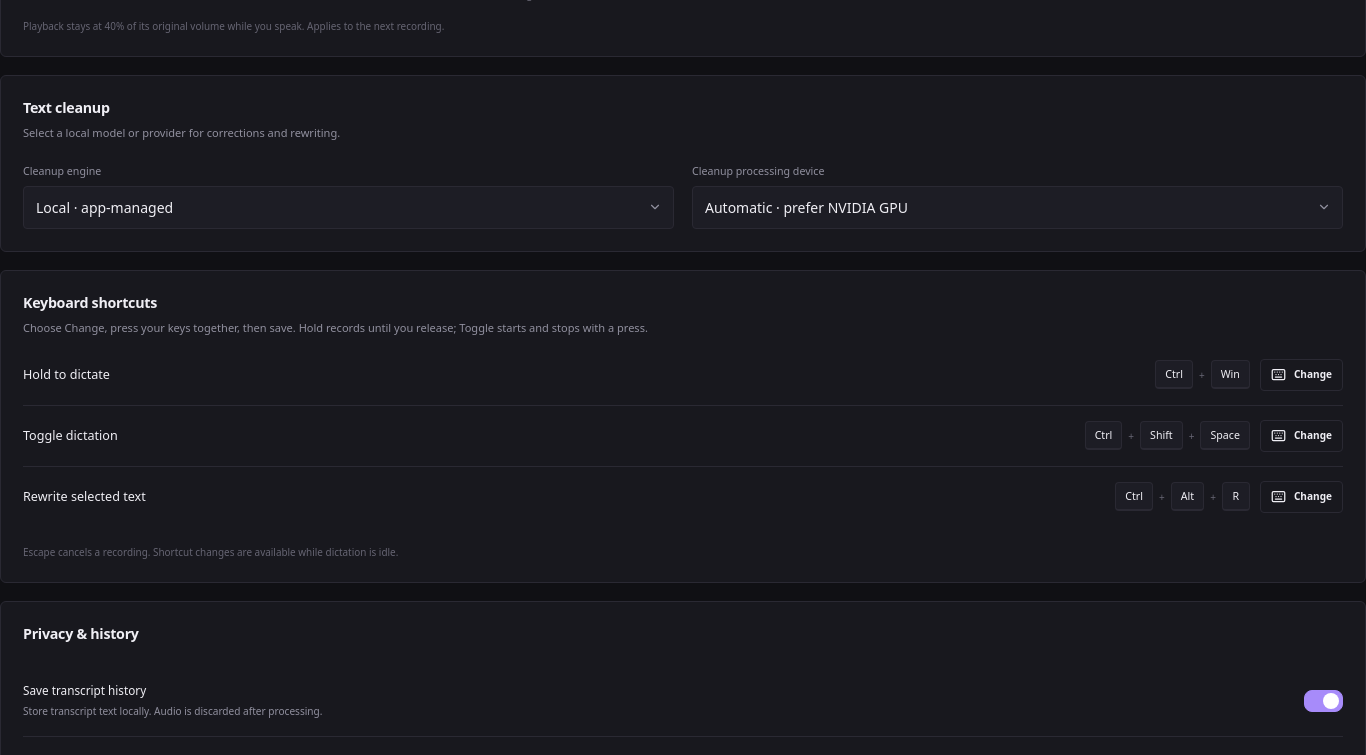
Test: Persisted settings › captures a pressed shortcut without saving until confirmed, preserving the latest sibling binding
(page scrolled)
Click the button with aria-label "Change hold to dictate". click: click(1301, 375)
box: [1260, 359, 1343, 391]
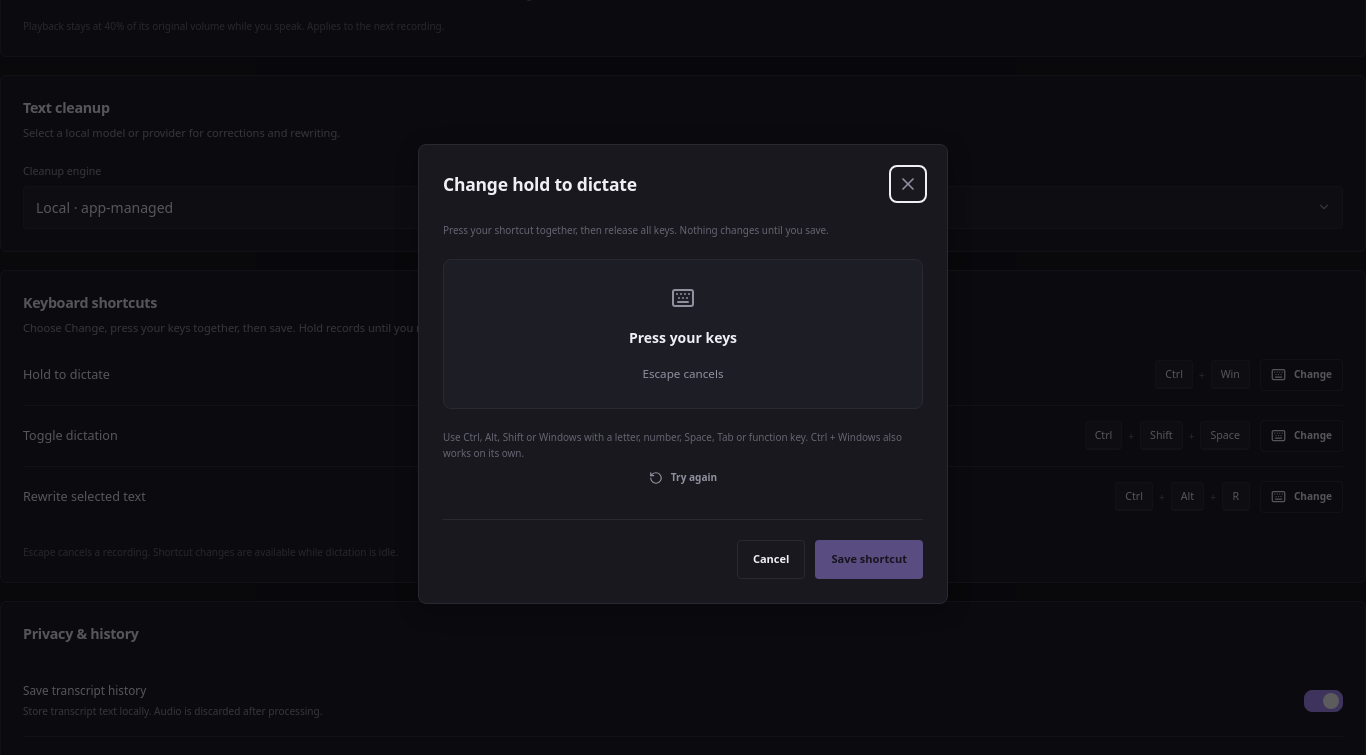
Press Control
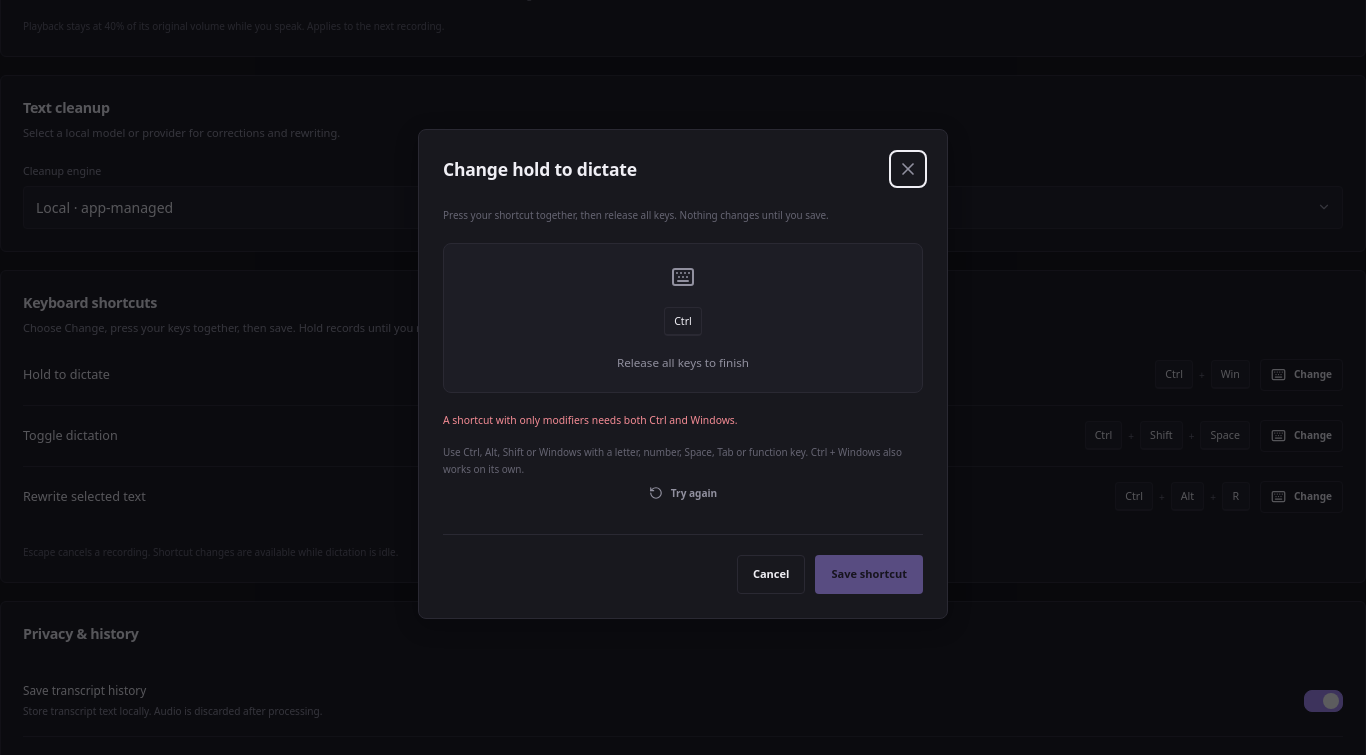
Press h
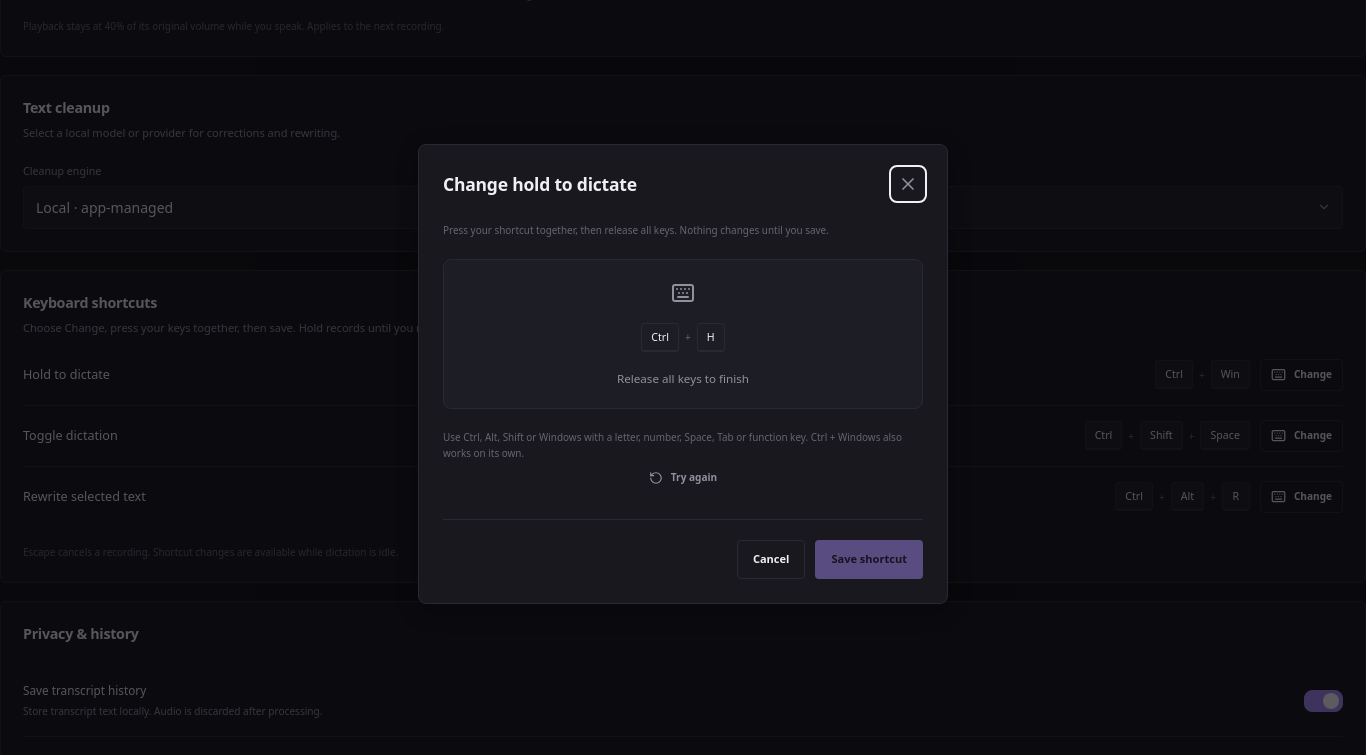
Expected: the button "Save shortcut" is disabled, [815, 540, 923, 579]
Press h
Press Control
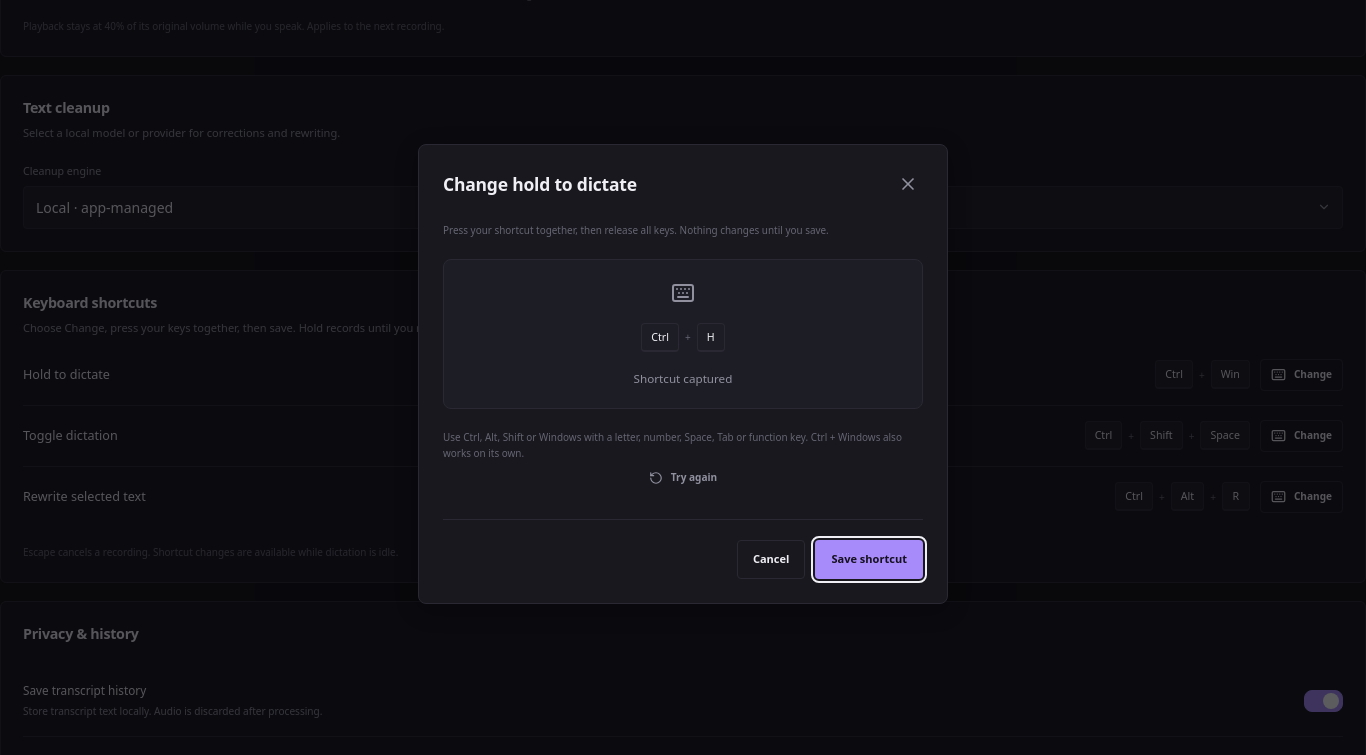
Click the button "Save shortcut". click: click(869, 559)
box: [815, 540, 923, 579]
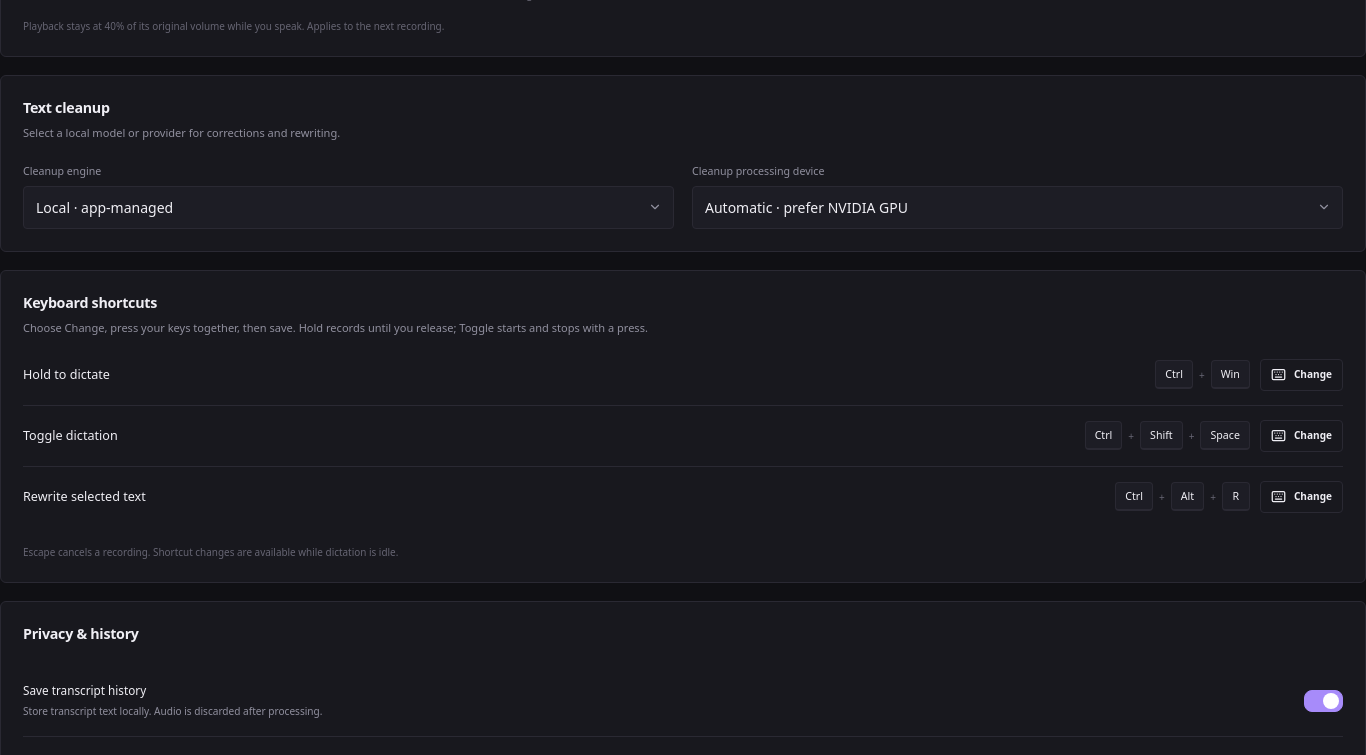
Expected: the dialog is gone
